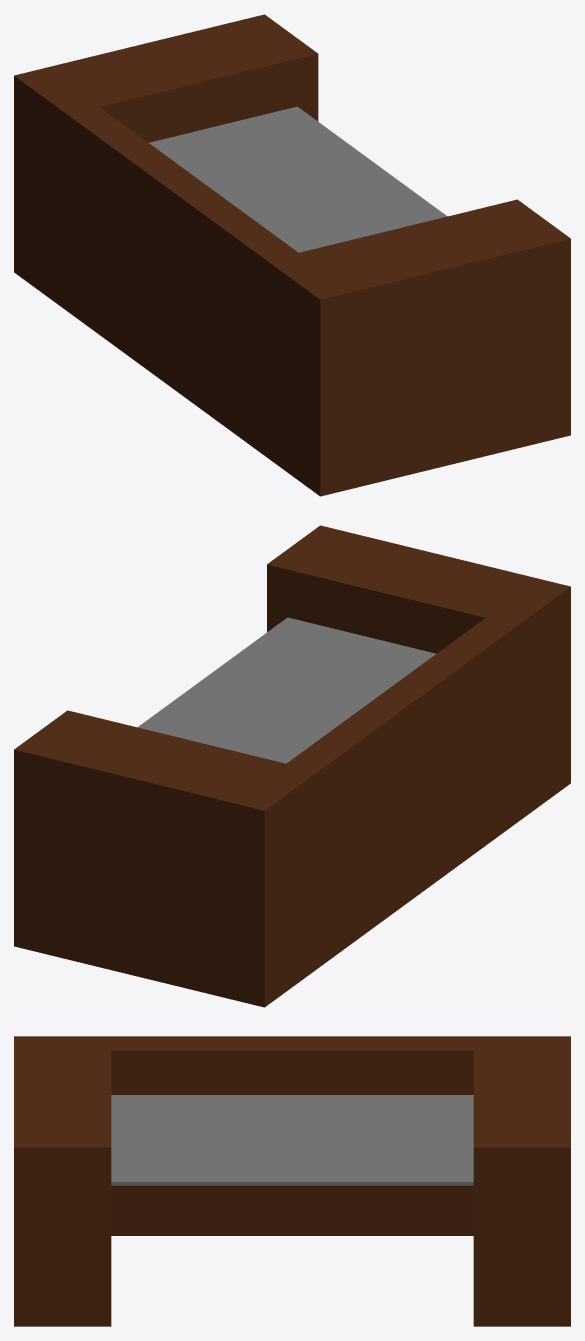
The model's file is Desk.fbx.
3 renders of one model, top to bottom at view 1: azimuth 30°, elevation 25°; view 2: azimuth 150°, elevation 25°; view 3: azimuth 270°, elevation 25°, orthographic. The views are drawn at different scales.
Visible parts, largest first — view 1: desk; view 2: desk; view 3: desk.
Boxes of the visible parts, x1,y1,x2,y2 form: desk: [14, 14, 570, 496]; desk: [14, 525, 570, 1007]; desk: [14, 1036, 570, 1326].
Size of the model in its own units: 188 by 141 by 399.
